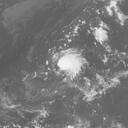cyclone: (50, 47, 89, 81)
